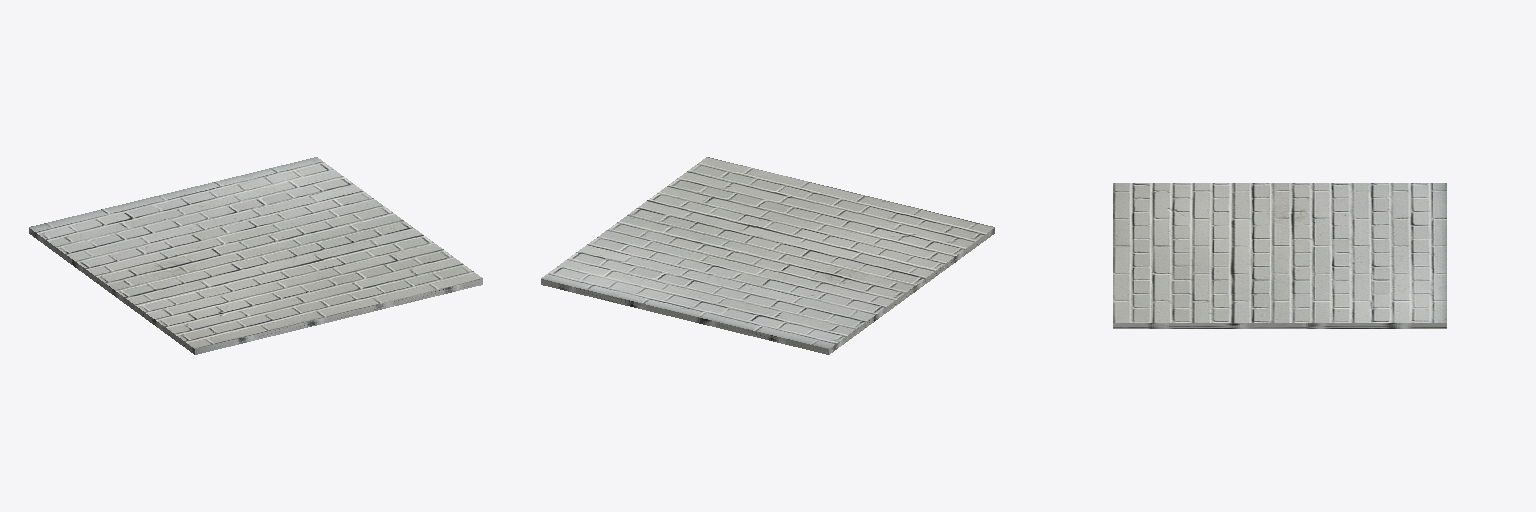
The picture shows the model from 3 angles: view 1: azimuth 30°, elevation 25°; view 2: azimuth 150°, elevation 25°; view 3: azimuth 270°, elevation 25°; orthographic projection.
Parts seen in each view (by area): view 1: Cube; view 2: Cube; view 3: Cube.
Boxes of the visible parts, <box> form: Cube: <box>29,157,482,354</box>; Cube: <box>541,157,994,354</box>; Cube: <box>1113,183,1446,328</box>.
Bounding box in the file's own units: 5 × 0.1 × 5.
1 materials, 1 textured.